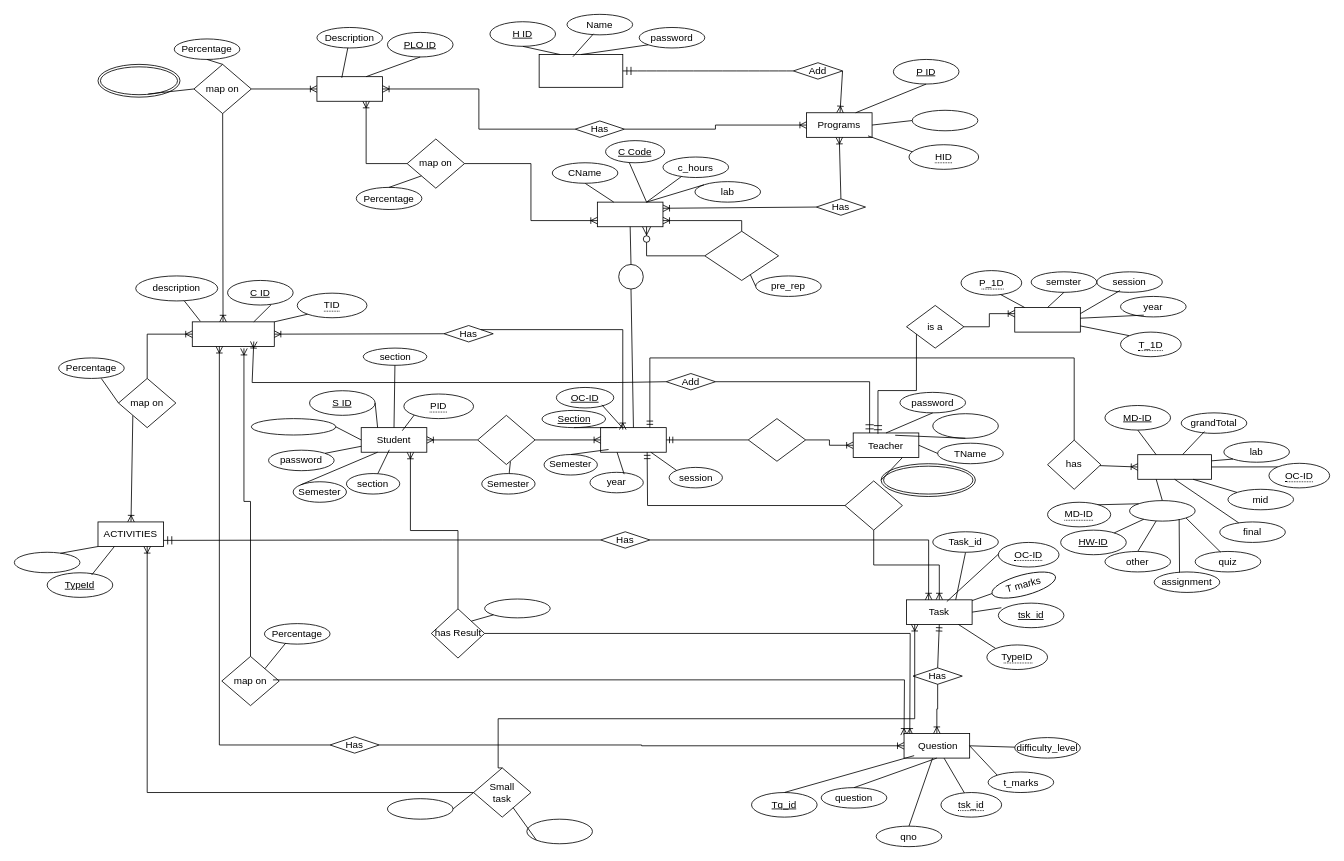
Some shapes in this 1344 by 861 pixel diagram are drawn without their labels. The centre of each missing label's shape, as x and y in pixels:
"Advisor" goes at point 1047,319.
"CLOS" goes at point 232,333.
"Courses" goes at point 630,214.
"Create" goes at point 873,505.
"Enrolled" goes at point 506,440.
"HOD" goes at point 580,70.
"HW" goes at point 1162,510.
"m_distribution" goes at point 1174,466.
"obt_marks" goes at point 517,608.
"Offered Courses" goes at point 633,439.
"permission" goes at point 927,480.
"PLOS" goes at point 349,88.
"PName" goes at point 944,120.
"pre_requisiite" goes at point 741,255.
"smallTskid" goes at point 420,808.
"SName" goes at point 293,426.
"st_id" goes at point 559,831.
"suggestion" goes at point 138,80.
"T ID" goes at point 965,425.
"Teach" goes at point 776,439.
"Typee" goes at point 47,562.
